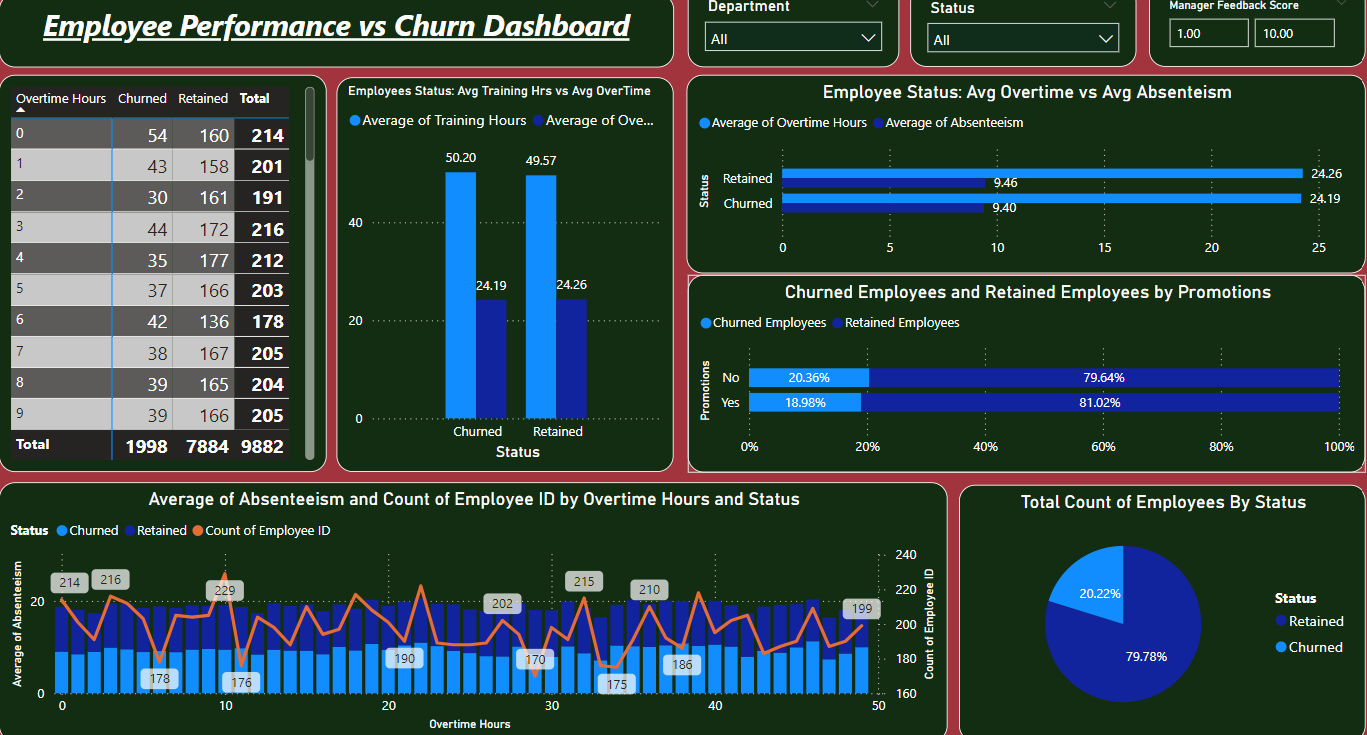

Layout of this report page (visuals, bound fields, positions):
{"tool":"powerbi","page":{"name":"Page 2","canvas":[1280,720],"ordinal":1},"visuals":[{"type":"slicer","fields":{"Values":["Employee_Churn.Department"]},"box":[640.7,3.5,196.5,76.7],"z":0},{"type":"slicer","fields":{"Values":["Employee_Churn.Status"]},"box":[847.7,4.7,210.5,75.6],"z":1000},{"type":"slicer","fields":{"Values":["Employee_Churn.Manager Feedback Score"]},"box":[1069.8,4.7,202.3,75.6],"z":2000},{"type":"clusteredBarChart","title":"Employee Status: Avg Overtime vs Avg Absenteism","fields":{"Category":["Employee_Churn.Status"],"Y":["Avg(Employee_Churn.Overtime Hours)","Avg(Employee_Churn.Absenteeism)"]},"box":[639.5,87.2,632.6,184.9],"z":3000},{"type":"hundredPercentStackedBarChart","fields":{"Category":["Employee_Churn.Promotions"],"Y":["Employee_Churn.Churned Employees","Employee_Churn.Retained Employees"]},"box":[640.7,273.3,631.4,183.7],"z":4000},{"type":"pivotTable","title":"OverTime: Churned vs Retained","fields":{"Rows":["Employee_Churn.Overtime Hours"],"Columns":["Employee_Churn.Status"],"Values":["CountNonNull(Employee_Churn.Employee ID)"]},"box":[0,87.2,304.7,369.8],"z":5000},{"type":"pieChart","title":"Total Count of Employees By Status","fields":{"Category":["Employee_Churn.Status"],"Y":["CountNonNull(Employee_Churn.Employee ID)"]},"box":[893,468.6,379.1,239.5],"z":6000},{"type":"clusteredColumnChart","title":"Employees Status: Avg Training Hrs vs Avg OverTime ","fields":{"Category":["Employee_Churn.Status"],"Y":["Avg(Employee_Churn.Training Hours)","Avg(Employee_Churn.Overtime Hours)"]},"box":[314,89.5,314,367.4],"z":7000},{"type":"lineStackedColumnComboChart","fields":{"Category":["Employee_Churn.Overtime Hours"],"Series":["Employee_Churn.Status"],"Y2":["CountNonNull(Employee_Churn.Employee ID)"],"Y":["Avg(Employee_Churn.Absenteeism)"]},"box":[0,466.3,882.6,241.9],"z":8000},{"type":"textbox","box":[0,11.6,627.9,68.6],"z":9000}]}

Visuals, with their boxes on the page's 1280x720 design canvas (x1, y1, x2, y2). These are canvas units, not pixel positions in the 1367x735 screenshot, which may show the page scaled, cropped or inside an application window:
slicer - Employee_Churn.Department: bbox(641, 4, 837, 80)
slicer - Employee_Churn.Status: bbox(848, 5, 1058, 80)
slicer - Employee_Churn.Manager Feedback Score: bbox(1070, 5, 1272, 80)
"Employee Status: Avg Overtime vs Avg Absenteism" clusteredBarChart: bbox(640, 87, 1272, 272)
hundredPercentStackedBarChart - Employee_Churn.Promotions x Employee_Churn.Churned Employees: bbox(641, 273, 1272, 457)
"OverTime: Churned vs Retained" pivotTable: bbox(0, 87, 305, 457)
"Total Count of Employees By Status" pieChart: bbox(893, 469, 1272, 708)
"Employees Status: Avg Training Hrs vs Avg OverTime " clusteredColumnChart: bbox(314, 90, 628, 457)
lineStackedColumnComboChart - Employee_Churn.Overtime Hours x Employee_Churn.Status: bbox(0, 466, 883, 708)
textbox: bbox(0, 12, 628, 80)
